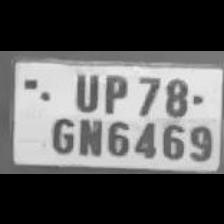4: (131, 117, 158, 158)
6: (102, 114, 130, 155), (157, 119, 185, 159)
7: (131, 72, 161, 116)
8: (160, 74, 188, 116)
9: (186, 120, 214, 160)
G: (46, 113, 78, 154)
N: (76, 114, 102, 154)
P: (97, 70, 130, 114)
U: (69, 68, 100, 110)
